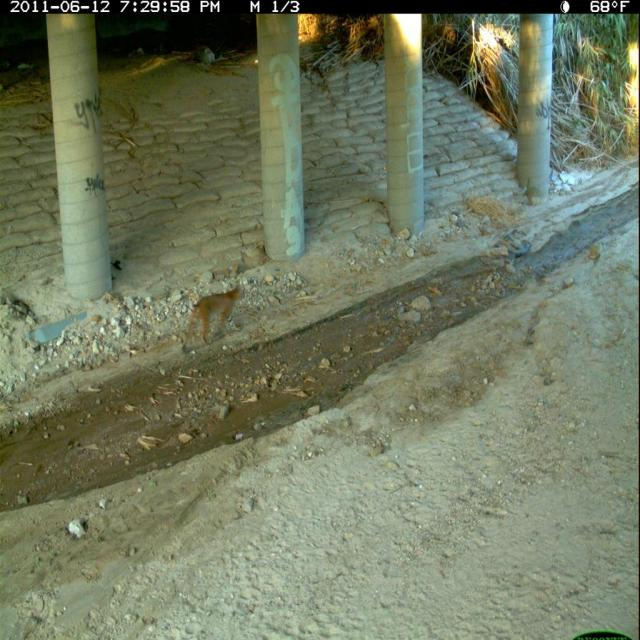bobcat: (180, 280, 247, 355)
